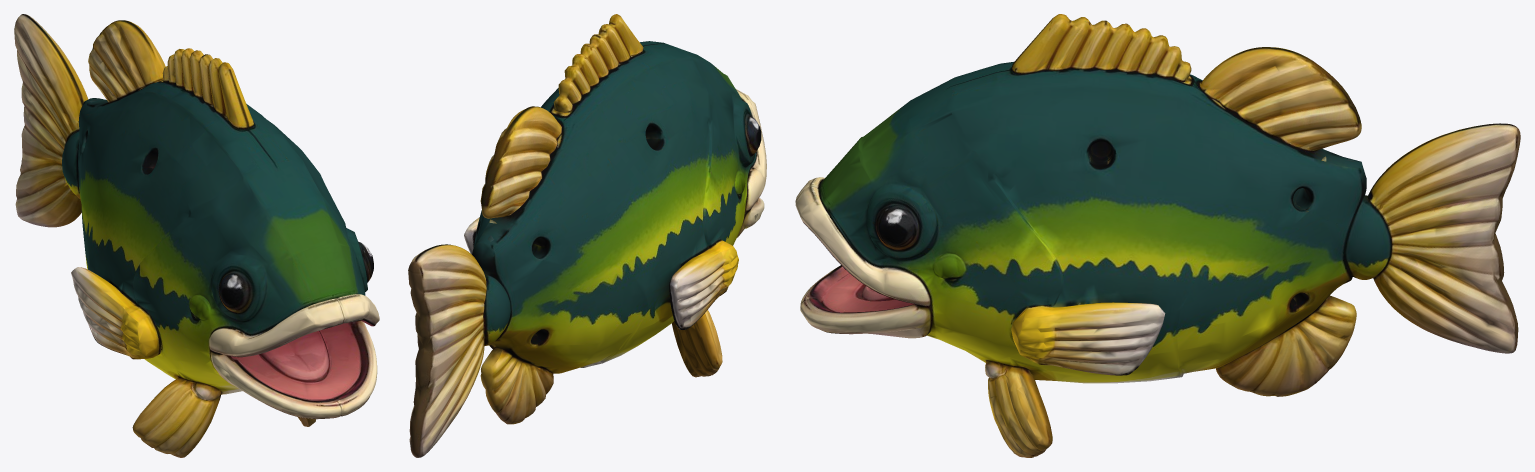
File: billy-bass.glb
The picture shows the model from 3 angles, left to right: view 1: azimuth 30°, elevation 25°; view 2: azimuth 150°, elevation 25°; view 3: azimuth 270°, elevation 25°; orthographic projection. The views are drawn at different scales.
Visible parts, largest first — view 1: node_0; view 2: node_0; view 3: node_0.
Part boxes in pixels (box(x1,y1,x2,y2)): node_0: box(14, 14, 379, 457); node_0: box(408, 14, 766, 457); node_0: box(795, 14, 1520, 457).
Size of the model in its own units: 0.4584 by 0.6998 by 1.13.
Materials: 1 (1 with a texture image).
